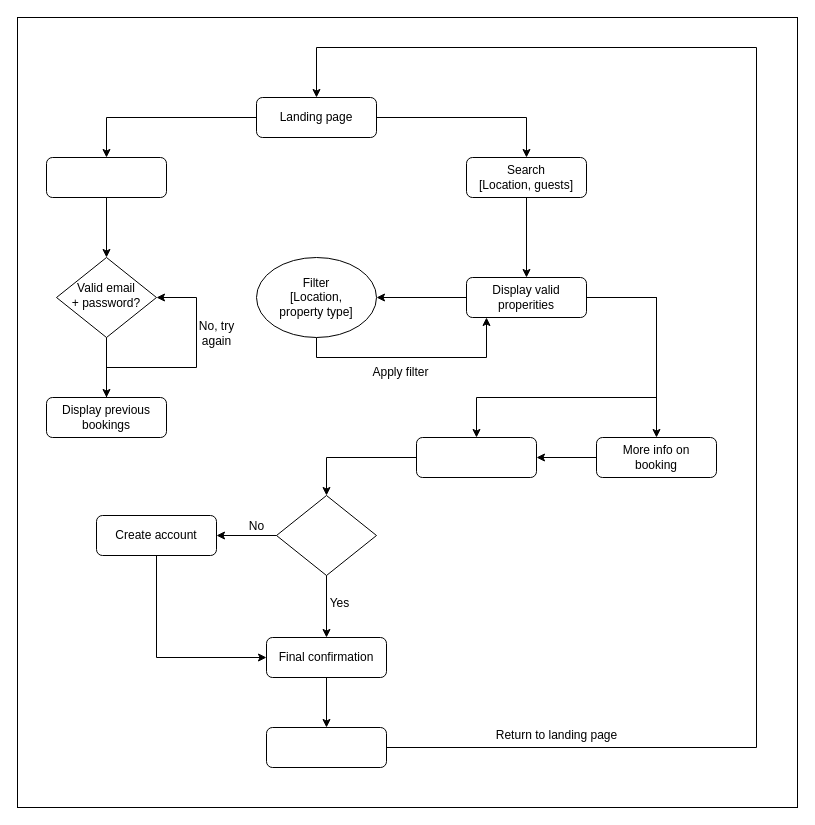
The diagram is 815 pixels wide and 825 high, and some of its shapes have lost their labels. Here are the shapes that lost their labels. From the top down, the centre of each, then its label:
the point at 106,177: Sign in
the point at 476,457: Booking page
the point at 326,535: Existing user?
the point at 326,747: Show booking summary
